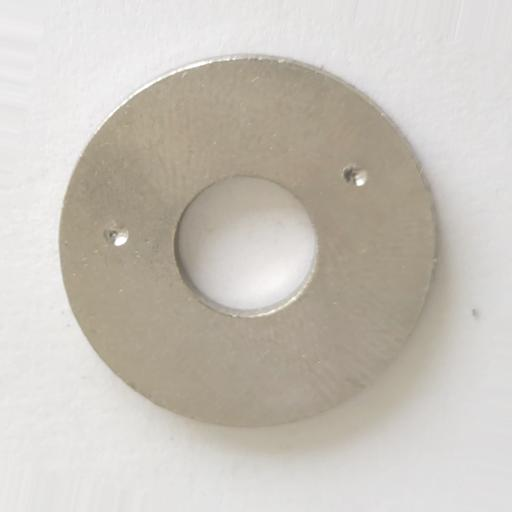circular_cavity: (340, 161, 369, 188), (102, 220, 130, 247)
